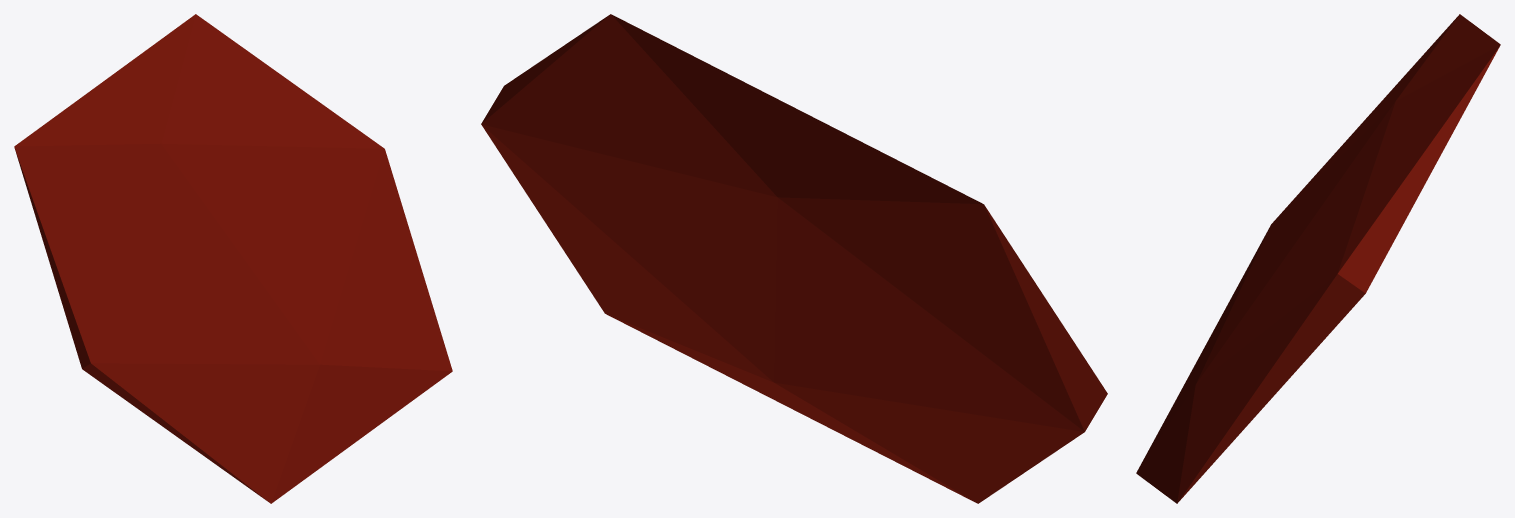
Rendered from Platonic_23.gltf.
3 renders of one model, left to right at view 1: azimuth 30°, elevation 25°; view 2: azimuth 150°, elevation 25°; view 3: azimuth 270°, elevation 25°, orthographic. The views are drawn at different scales.
Visible parts, largest first — view 1: Platonic_23; view 2: Platonic_23; view 3: Platonic_23.
Boxes of the visible parts, x1,y1,x2,y2 form: Platonic_23: (14,14,452,503); Platonic_23: (481,14,1107,503); Platonic_23: (1136,14,1500,503).
Bounding box in the file's own units: 38.57 × 41.45 × 29.11.
